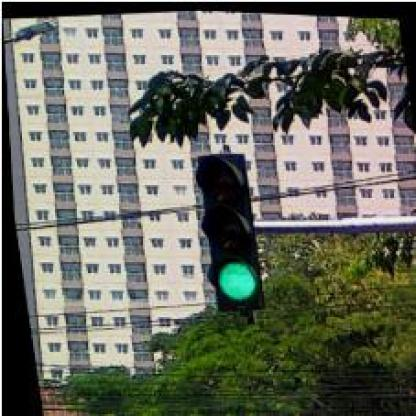green: (187, 146, 264, 312)
